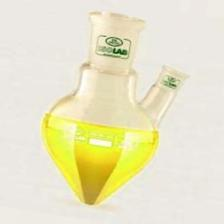Pear shaped flask: (38, 16, 186, 206)
